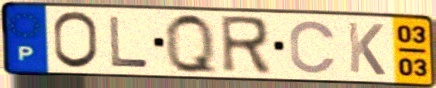C: (288, 18, 340, 76)
K: (345, 20, 388, 78)
L: (106, 15, 152, 70)
O: (51, 9, 101, 72)
Q: (161, 10, 221, 78)
R: (217, 14, 274, 77)
